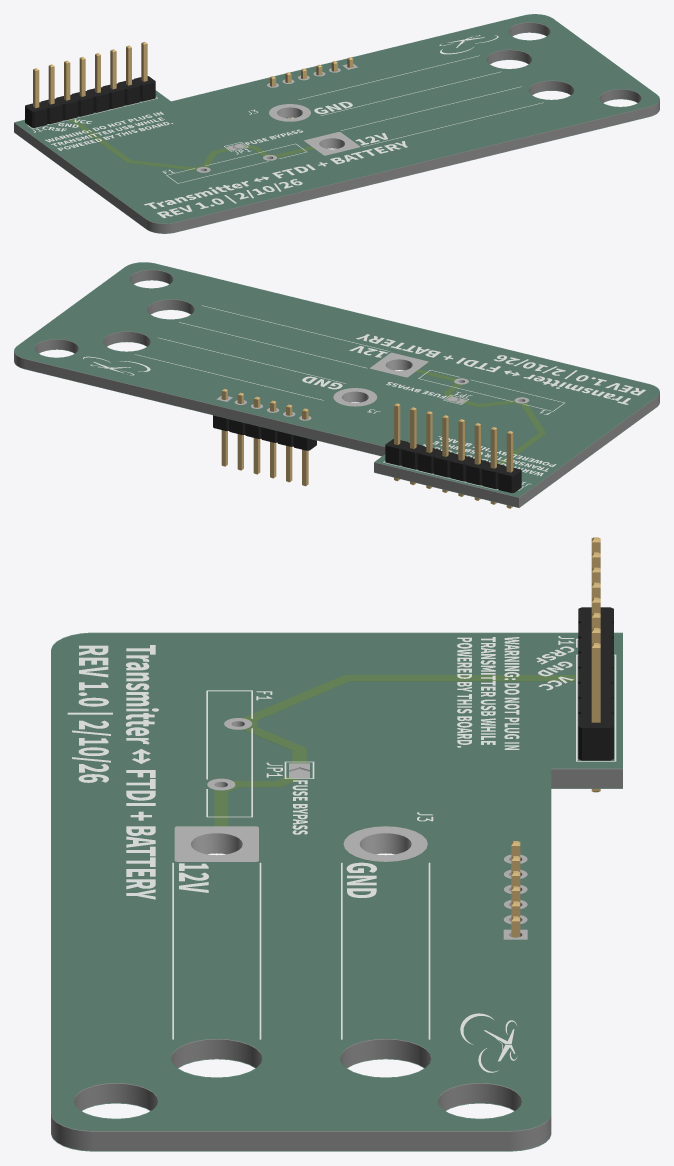
The model's file is TransmitterBreakout.gltf.
3 renders of one model, top to bottom at view 1: azimuth 30°, elevation 25°; view 2: azimuth 150°, elevation 25°; view 3: azimuth 270°, elevation 25°, orthographic. The views are drawn at different scales.
Parts seen in each view (by area): view 1: =>[0:1:1:9], =>[0:1:1:8], J1, =>[0:1:1:7], =>[0:1:1:5], =>[0:1:1:4], J2; view 2: =>[0:1:1:9], =>[0:1:1:8], J1, =>[0:1:1:7], J2, =>[0:1:1:5], =>[0:1:1:4]; view 3: =>[0:1:1:9], =>[0:1:1:8], =>[0:1:1:7], =>[0:1:1:5], J1, =>[0:1:1:4], J2.
Part boxes in pixels (bbox=[...]): =>[0:1:1:9]: bbox=[14, 15, 659, 233]; =>[0:1:1:8]: bbox=[14, 14, 659, 233]; J1: bbox=[25, 41, 155, 127]; =>[0:1:1:7]: bbox=[27, 35, 543, 217]; =>[0:1:1:5]: bbox=[196, 64, 360, 172]; =>[0:1:1:4]: bbox=[70, 119, 313, 169]; J2: bbox=[270, 57, 353, 118]; =>[0:1:1:9]: bbox=[14, 263, 659, 507]; =>[0:1:1:8]: bbox=[14, 262, 659, 507]; J1: bbox=[385, 403, 521, 508]; =>[0:1:1:7]: bbox=[83, 305, 645, 490]; J2: bbox=[213, 389, 316, 486]; =>[0:1:1:5]: bbox=[216, 352, 529, 420]; =>[0:1:1:4]: bbox=[416, 370, 545, 485]; =>[0:1:1:9]: bbox=[51, 634, 622, 1150]; =>[0:1:1:8]: bbox=[51, 632, 622, 1151]; =>[0:1:1:7]: bbox=[67, 636, 616, 1072]; =>[0:1:1:5]: bbox=[174, 718, 527, 939]; J1: bbox=[578, 537, 613, 792]; =>[0:1:1:4]: bbox=[215, 675, 575, 825]; J2: bbox=[511, 841, 520, 937].
Bounding box in the file's own units: 0.0838 × 0.0188 × 0.0406.
